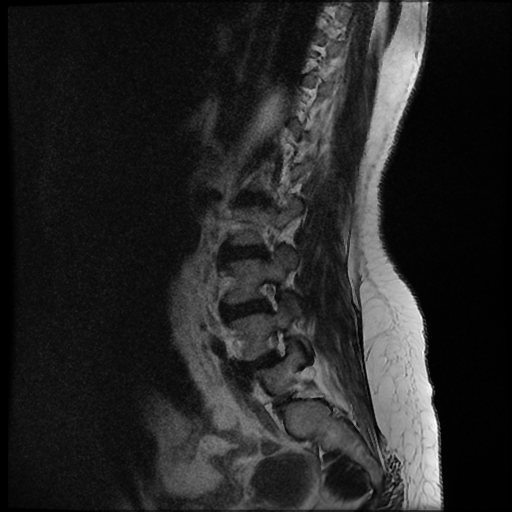LFS0: (248, 273, 289, 320)
LFS1: (260, 321, 301, 368)
